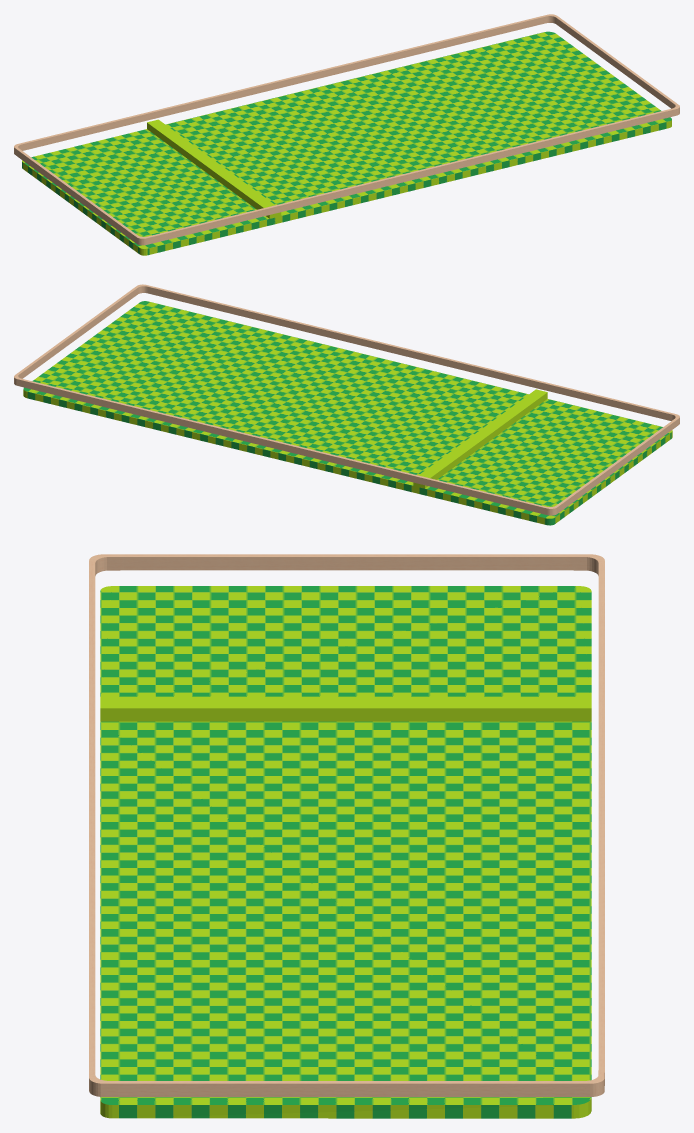
File: stage1.obj
3 renders of one model, top to bottom at view 1: azimuth 30°, elevation 25°; view 2: azimuth 150°, elevation 25°; view 3: azimuth 270°, elevation 25°, orthographic. The views are drawn at different scales.
Visible parts, largest first — view 1: Board, Barrier; view 2: Board, Barrier; view 3: Board, Barrier.
Boxes of the visible parts, box(x1,y1,x2,y2) form: Board: box(22, 31, 671, 255); Barrier: box(14, 14, 679, 245); Board: box(23, 301, 672, 525); Barrier: box(14, 284, 679, 515); Board: box(100, 586, 591, 1118); Barrier: box(89, 554, 604, 1096).
Bounding box in the file's own units: 51 × 1.8 × 21.
Materials: 2 (2 with a texture image).
